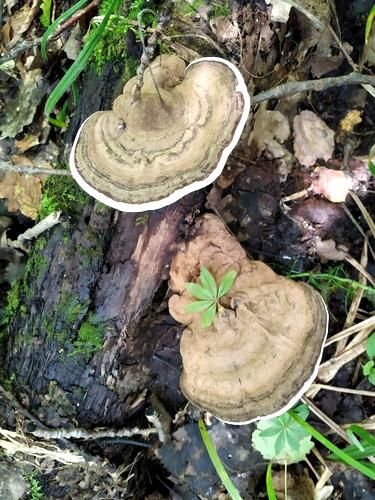Ganoderma - Fruit Body: (61, 49, 253, 213), (168, 276, 335, 429)
